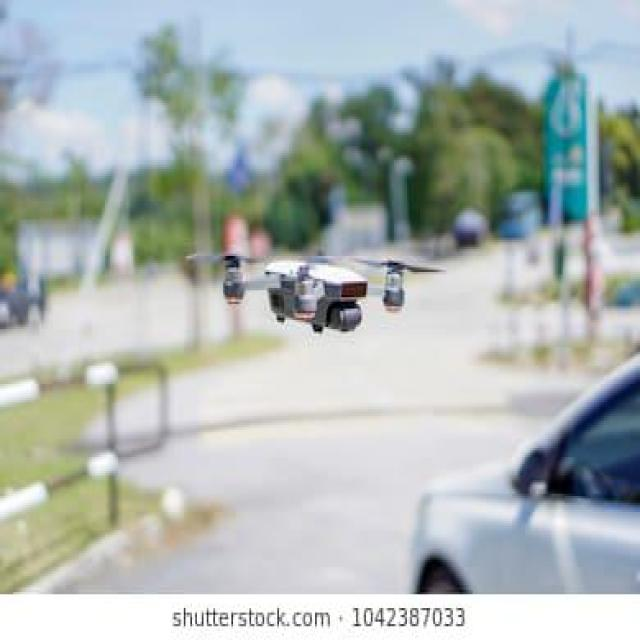drone: (180, 210, 457, 356)
